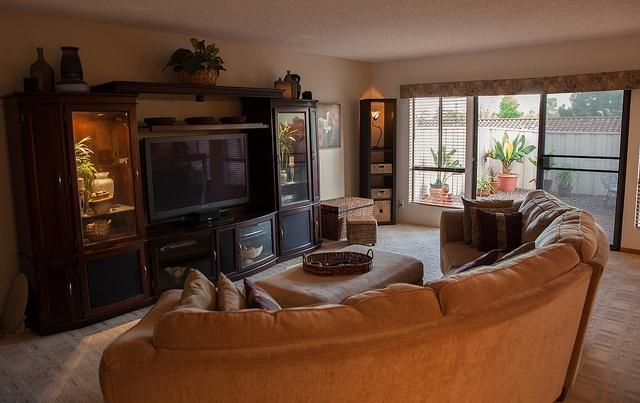AIO PC-Monitor-TV: (142, 129, 250, 220)
